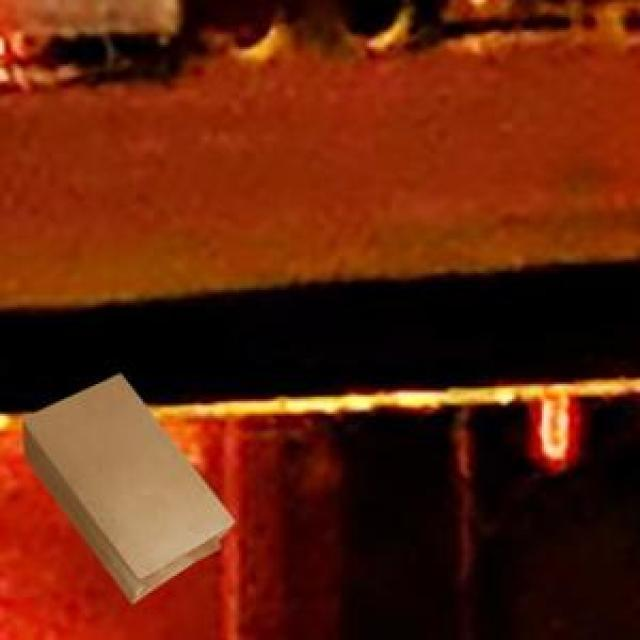paper: (19, 369, 230, 600)
